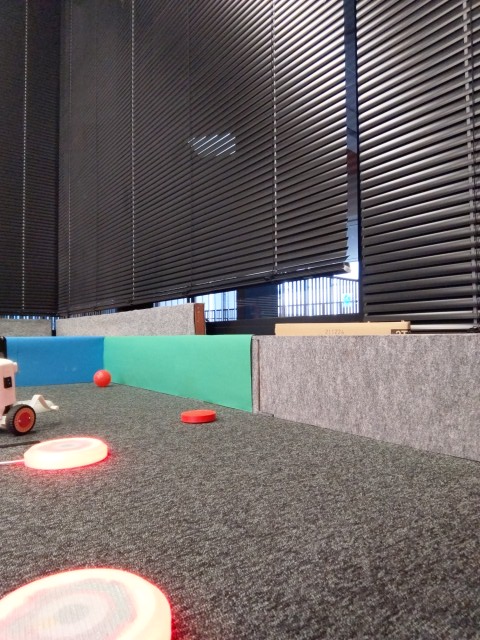br: (1, 339, 61, 436)
r: (1, 564, 177, 640), (21, 432, 113, 469)
